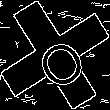O_NW: (23, 22, 87, 88)
